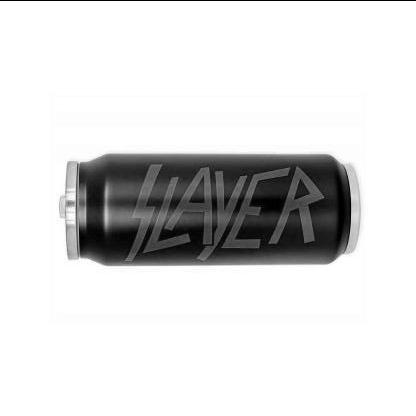alumunium_can: (58, 150, 360, 266)
